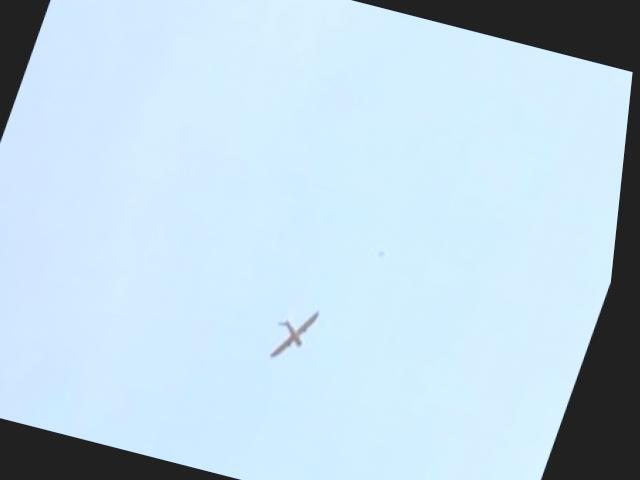uav: (274, 303, 330, 366)
